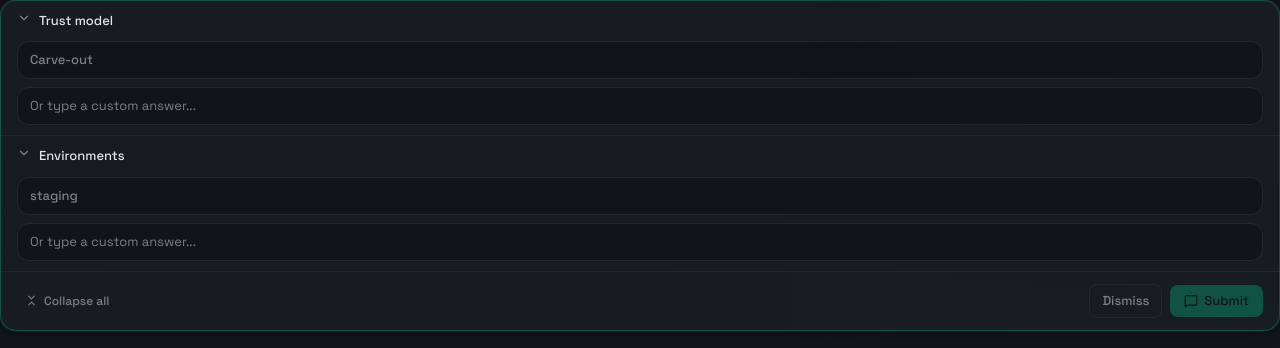
Test case: QuestionCard — every question must be answered › keeps Submit disabled until all questions have an answer
Check: the button "Submit" is disabled, box [1170, 285, 1263, 317]
What coordinates should you click on to do the following:
click the button "Carve-out"
I would click on:
 (62, 60)
Its box is [17, 41, 1263, 79].
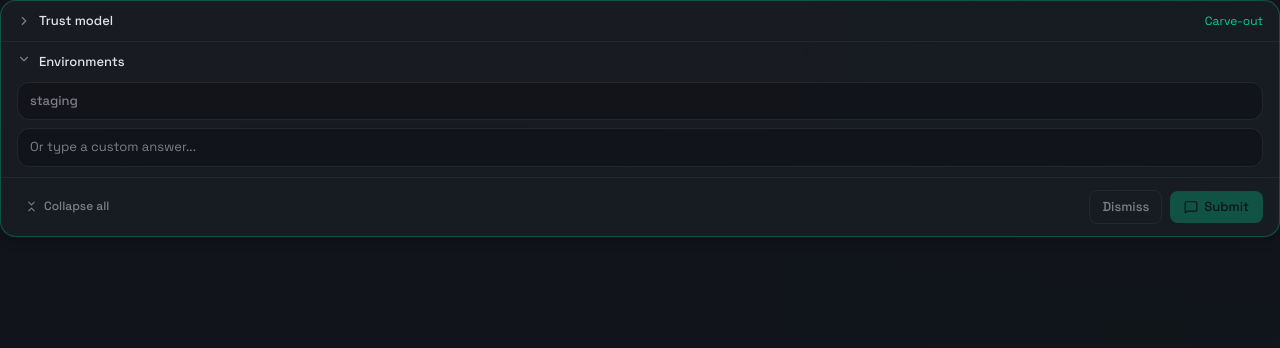
Check: the button "Submit" is disabled, box [1170, 191, 1263, 223]
What coordinates should you click on to do the following:
click the button "staging"
I would click on:
 (54, 101)
Its box is [17, 82, 1263, 120].
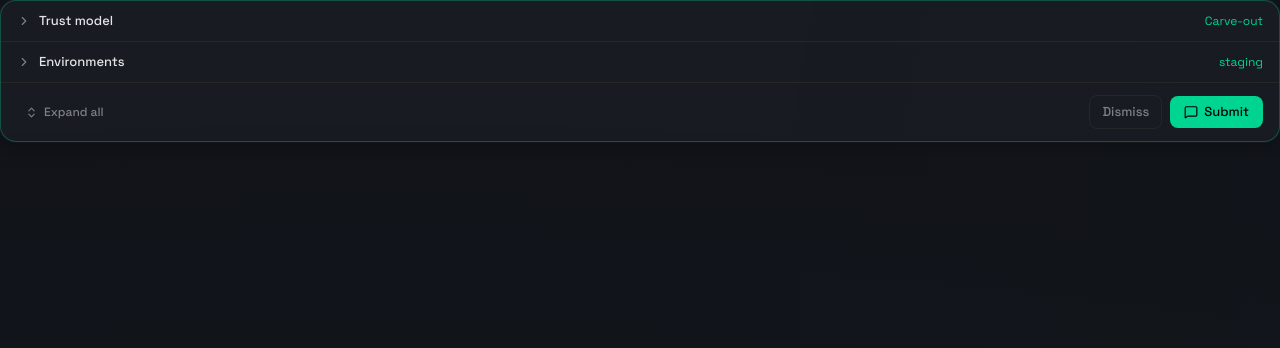
Check: the button "Submit" is enabled, box [1170, 96, 1263, 128]
